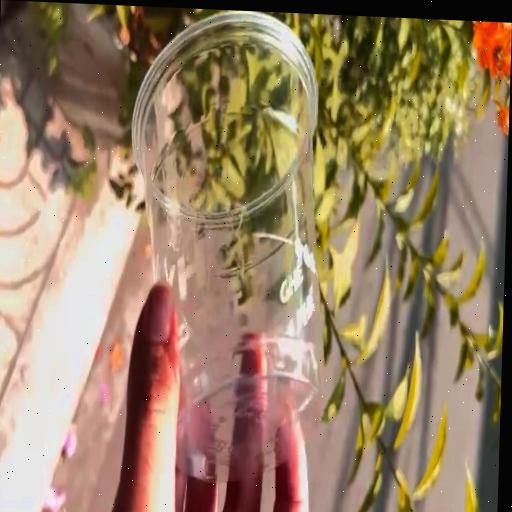ly_giay: (132, 12, 322, 480)
